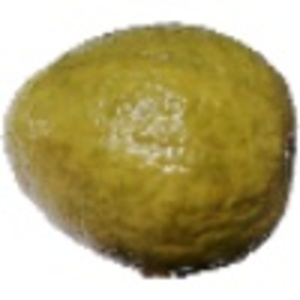goiaba: (3, 20, 295, 283)
